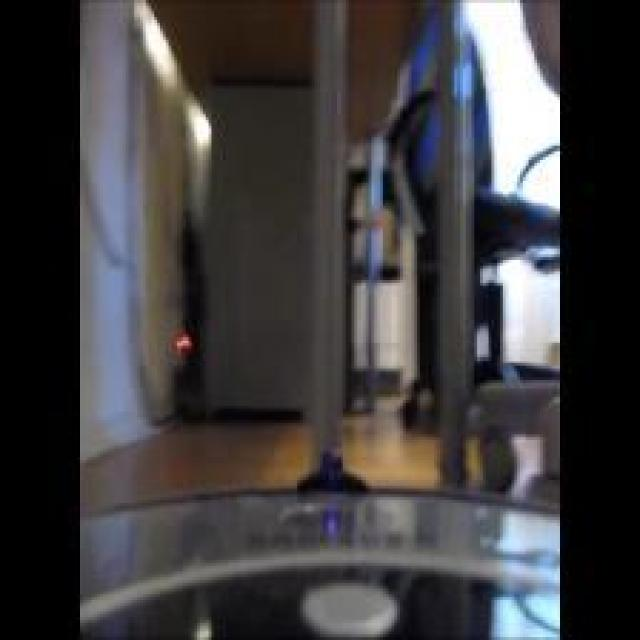other: (138, 11, 222, 155), (159, 314, 198, 369)
